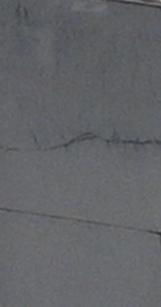fissura: (1, 113, 160, 158)
